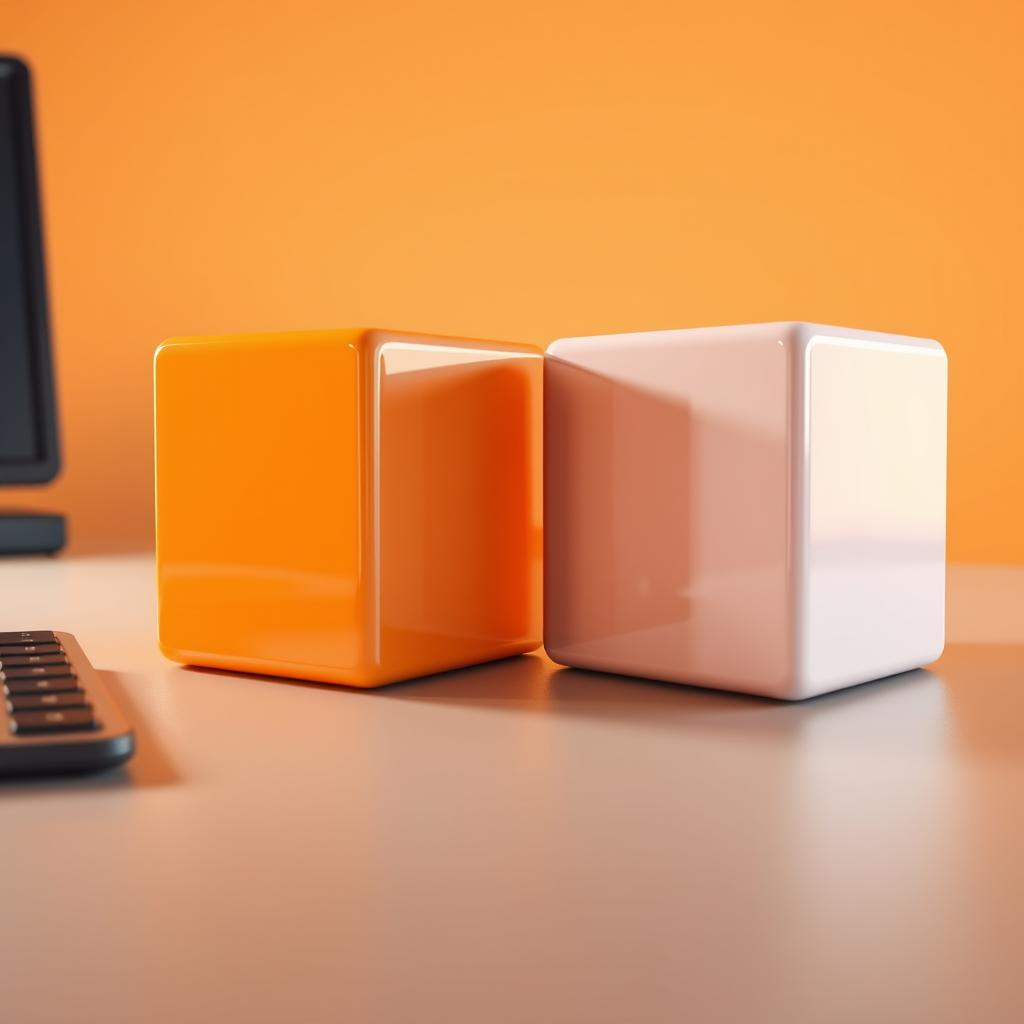cube: (543, 319, 947, 701), (152, 325, 544, 688)
